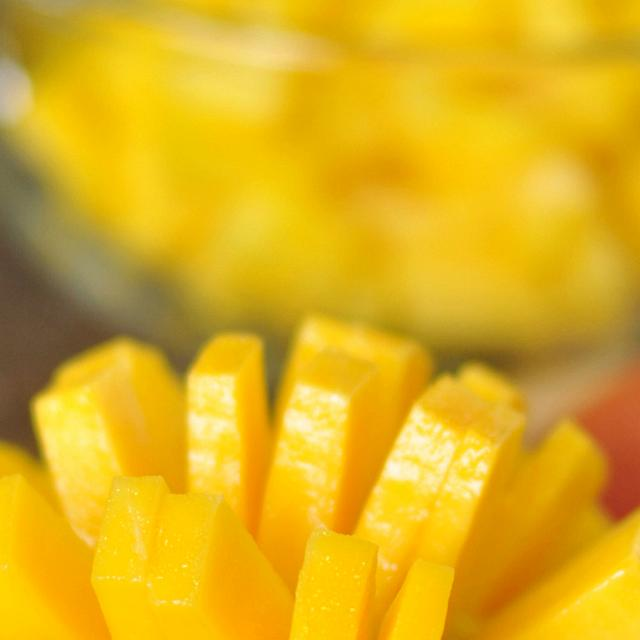mango: (0, 276, 640, 640)
